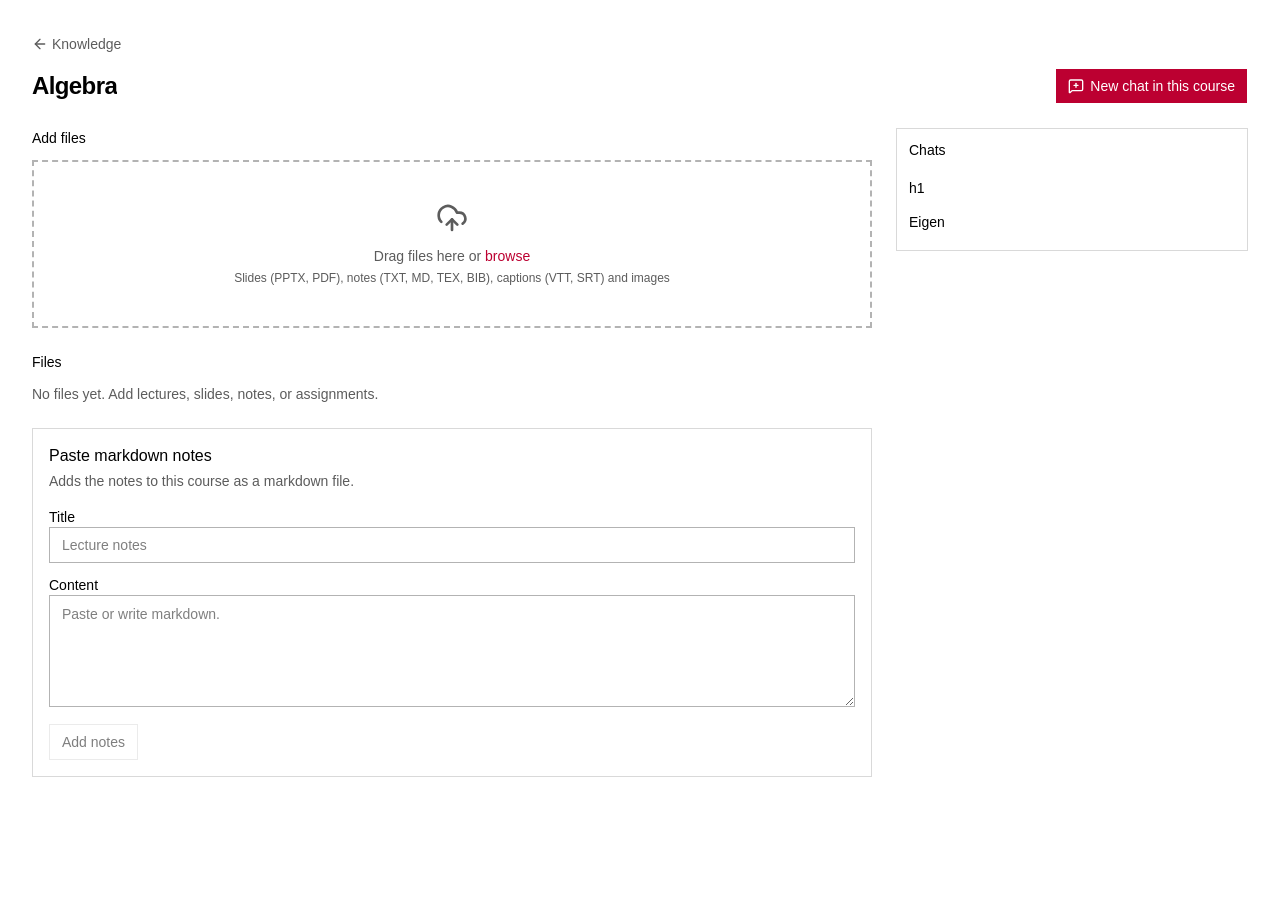
Scenario: CoursePage › adds markdown notes
In the field named "Markdown title": (452, 545) x1=49 y1=527 x2=855 y2=563, type "Week 1"
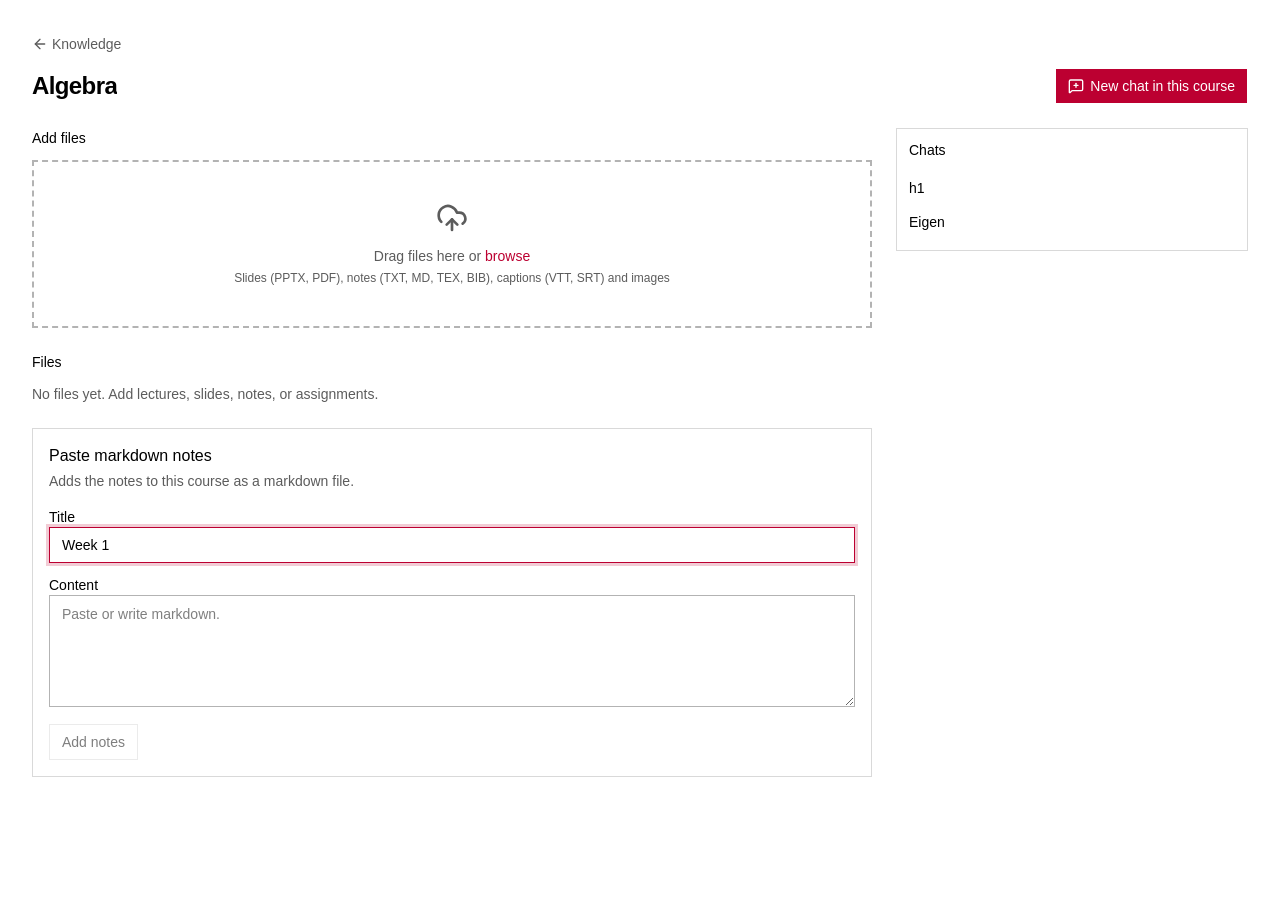
In the text box named "Markdown content": (452, 651) x1=49 y1=595 x2=855 y2=707, type "# Vectors"
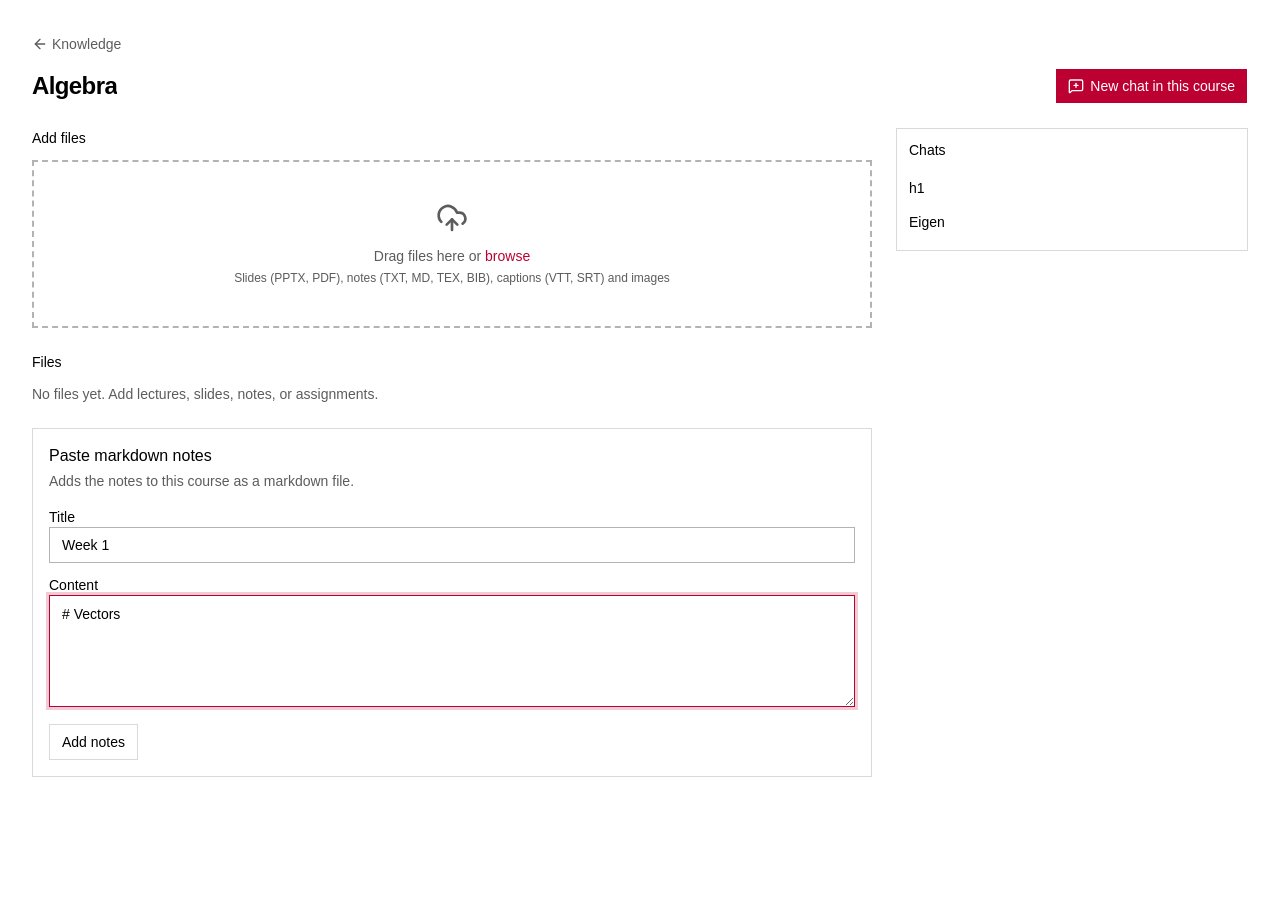
Click the button "Add notes": click(94, 742) x1=49 y1=724 x2=138 y2=760
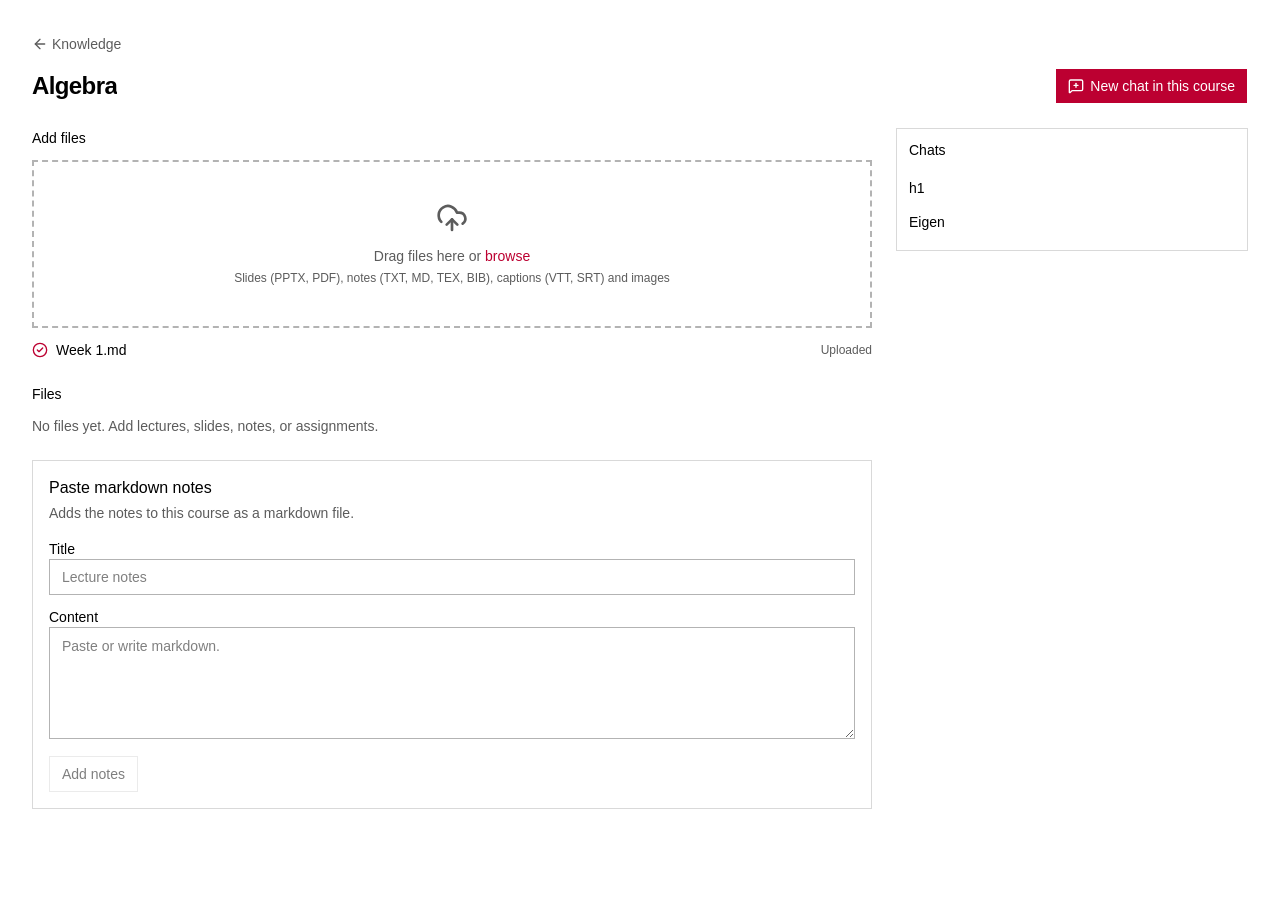
Check: the text "Week 1.md" is shown, box x1=56 y1=340 x2=126 y2=360
